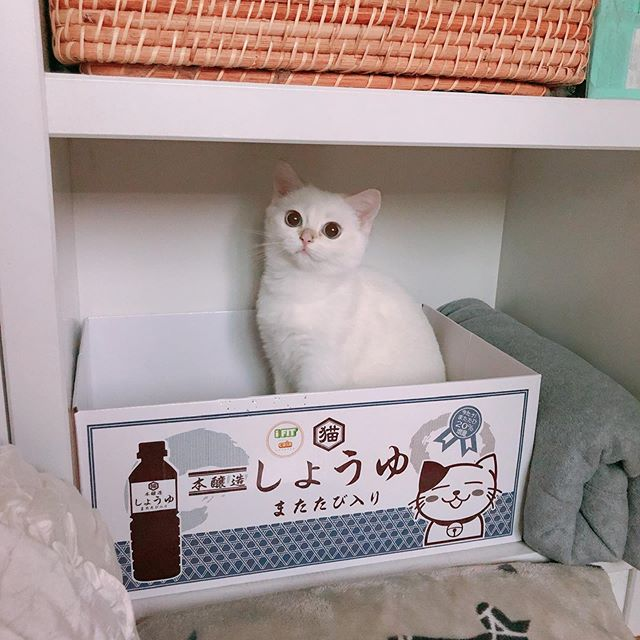cat: (257, 160, 386, 280)
